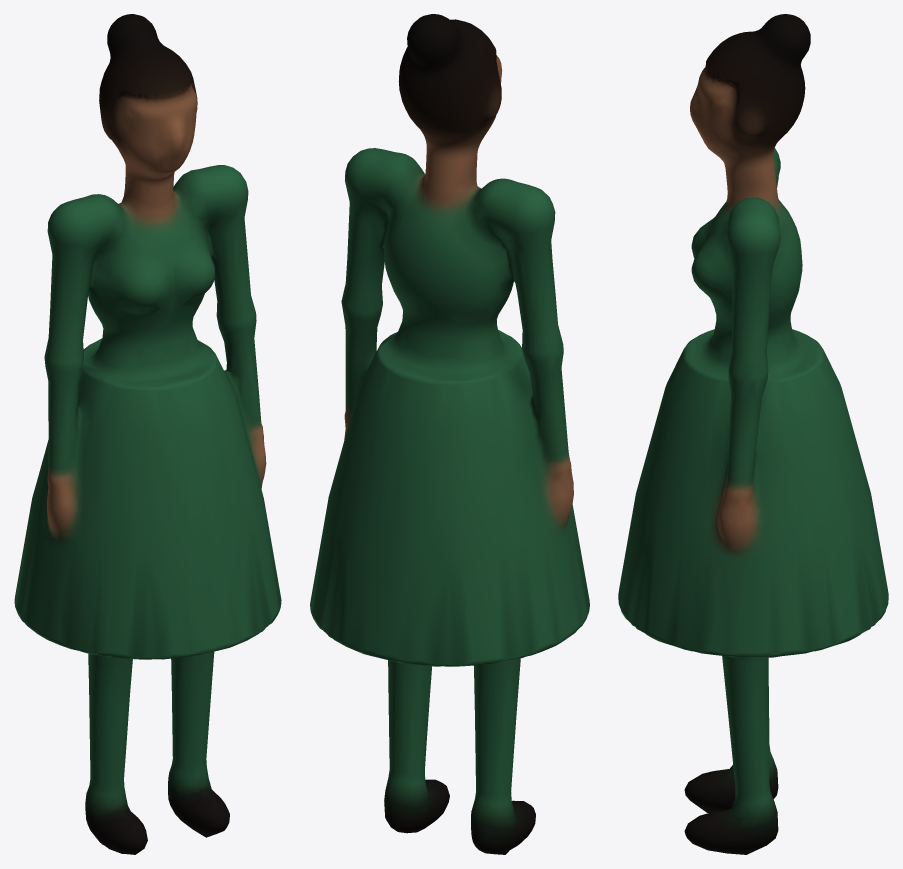
The model's file is lumiere-npc-patron-f3.glb.
3 renders of one model, left to right at view 1: azimuth 30°, elevation 25°; view 2: azimuth 150°, elevation 25°; view 3: azimuth 270°, elevation 25°, orthographic. The views are drawn at different scales.
Parts seen in each view (by area): view 1: lumiere-npc-patron-f3_LOD0; view 2: lumiere-npc-patron-f3_LOD0; view 3: lumiere-npc-patron-f3_LOD0.
Boxes of the visible parts, x1,y1,x2,y2 form: lumiere-npc-patron-f3_LOD0: [14, 14, 281, 854]; lumiere-npc-patron-f3_LOD0: [310, 14, 589, 854]; lumiere-npc-patron-f3_LOD0: [618, 14, 888, 854].
Size of what is drawn, in the model's own units: 0.5298 by 1.76 by 0.5299.
